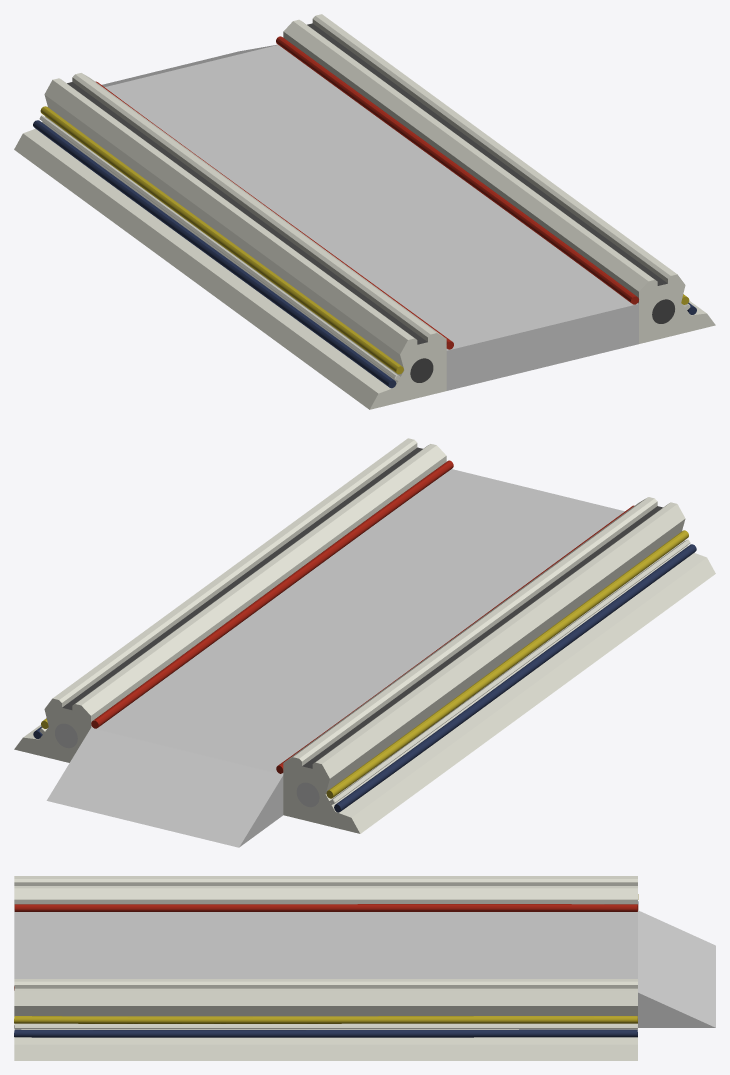
Rendered from Rampa 2.fbx.
3 renders of one model, top to bottom at view 1: azimuth 30°, elevation 25°; view 2: azimuth 150°, elevation 25°; view 3: azimuth 270°, elevation 25°, orthographic. The views are drawn at different scales.
Parts seen in each view (by area): view 1: Cube.003, Cube.001; view 2: Cube.001, Cube.003; view 3: Cube.003, Cube.001.
Boxes of the visible parts, x1,y1,x2,y2 form: Cube.003: [14, 14, 715, 409]; Cube.001: [102, 44, 638, 390]; Cube.001: [46, 469, 624, 847]; Cube.003: [14, 438, 715, 833]; Cube.003: [14, 876, 638, 1060]; Cube.001: [14, 910, 715, 1027].
Size of the model in its own units: 450 by 75 by 901.
